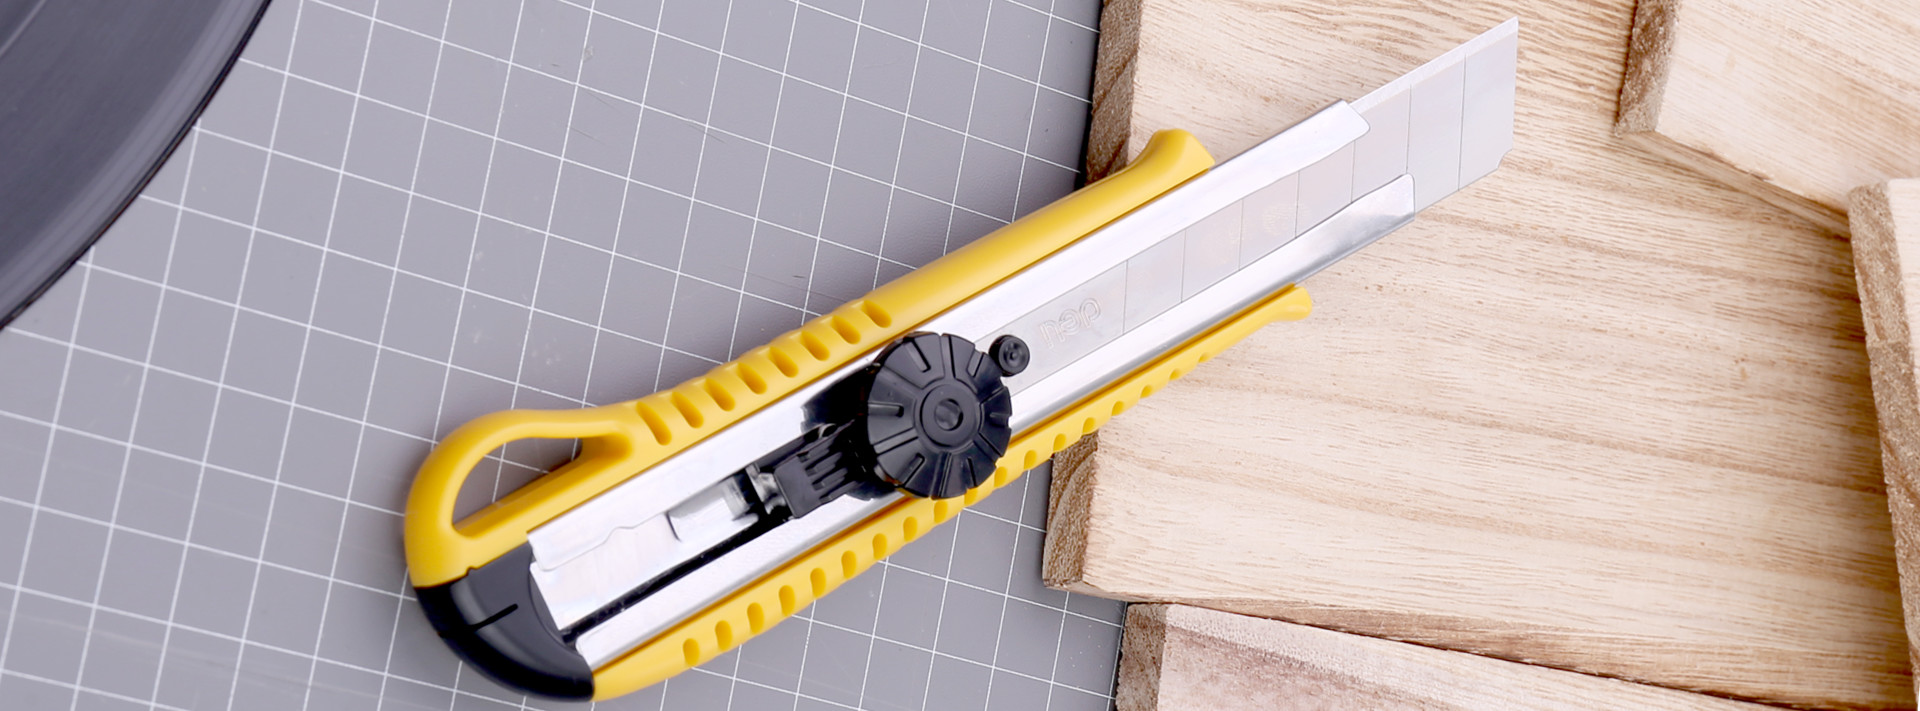cutter: (389, 13, 1524, 699)
